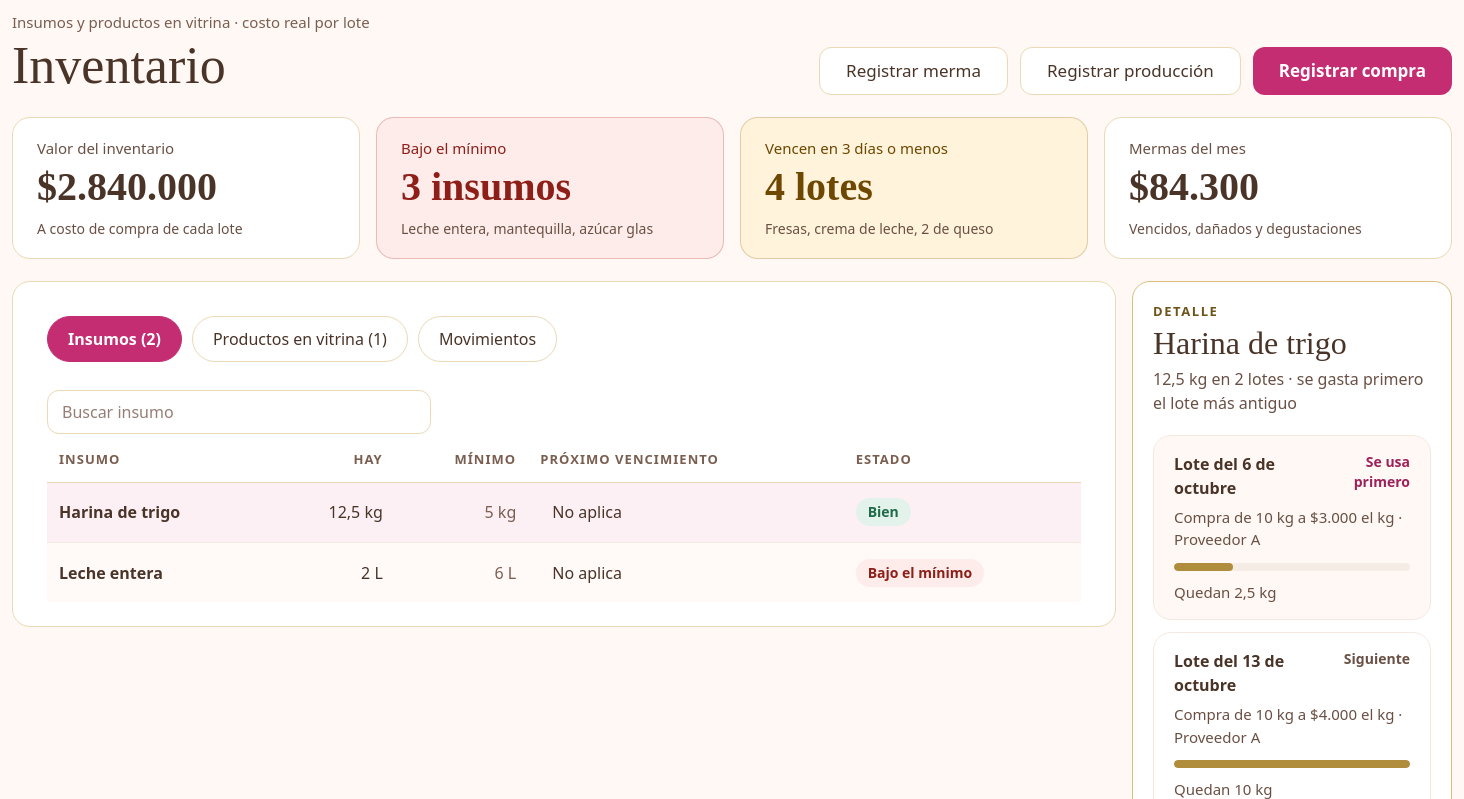
Test case: Inventario › al elegir otra fila cambia el detalle
Click the text "Leche entera": (160, 572) left=47, top=542, right=273, bottom=602
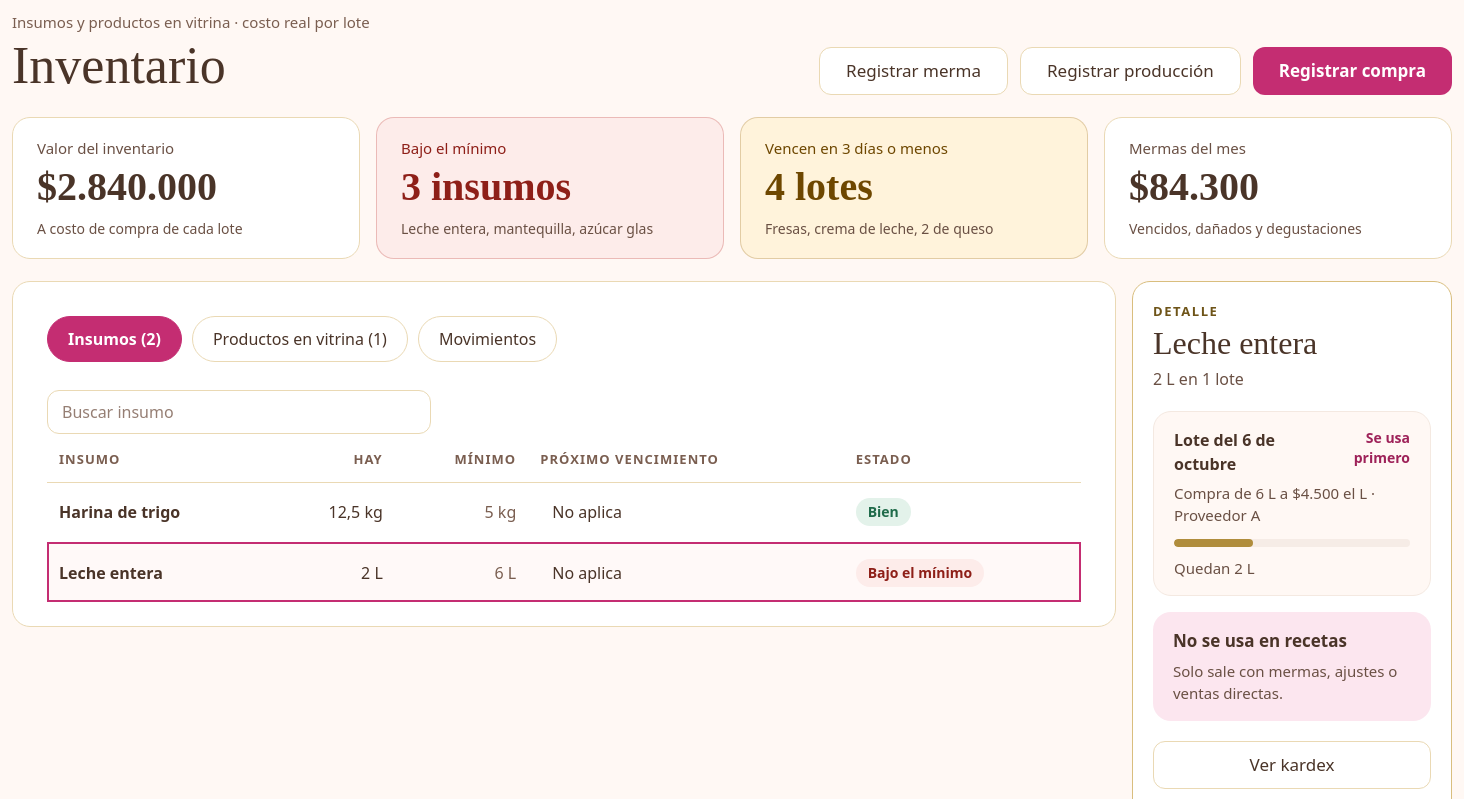
Expected: the heading "Leche entera" is shown, left=1153, top=325, right=1317, bottom=361
Expected: the text "Compra de 6 L a $4.500 el L · Proveedor A" is shown, left=1174, top=482, right=1410, bottom=527
